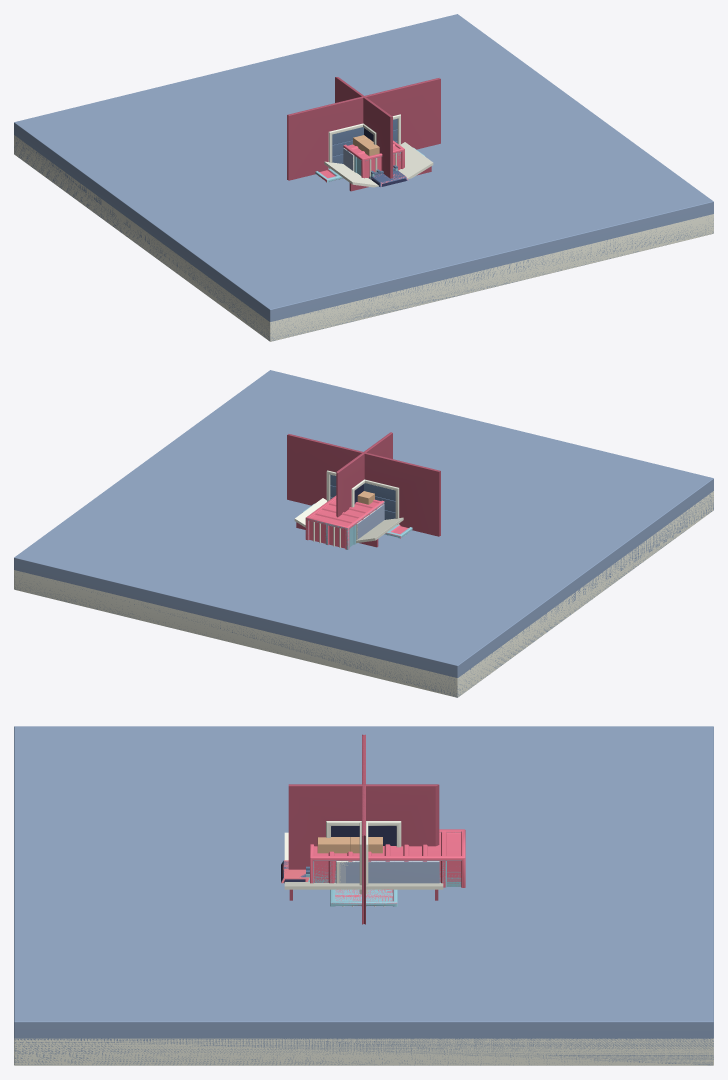
The model's file is Industrial Warehouse District.fbx.
The picture shows the model from 3 angles, top to bottom: view 1: azimuth 30°, elevation 25°; view 2: azimuth 150°, elevation 25°; view 3: azimuth 270°, elevation 25°; orthographic projection. The views are drawn at different scales.
Parts seen in each view (by area): view 1: Ground_2, Ground_1, WallDoor_1, Wall_B_1, Truck_B_1, Door_1, Roof_C_1, Roof_D_1; view 2: Ground_2, Ground_1, Wall_A_1, Truck_B_1, Wall_B_1, Door_1, WallDoor_1; view 3: Ground_2, Ground_1, Wall_B_1, Truck_B_1, Truck_A_2, Truck_C_1, Container_A_1, WallDoor_1, Wall_A_1, Roof_A_1, Roof_C_1, Truck_B_2.
Part boxes in pixels (x1,y1,x2,y2): Ground_2: (14,14,713,340); Ground_1: (14,135,713,341); WallDoor_1: (288,78,440,180); Wall_B_1: (335,77,392,178); Truck_B_1: (343,140,407,187); Door_1: (332,118,397,163); Roof_C_1: (402,142,432,175); Roof_D_1: (324,161,377,191); Ground_2: (14,370,713,697); Ground_1: (14,491,713,697); Wall_A_1: (287,434,439,536); Truck_B_1: (305,495,384,549); Wall_B_1: (336,432,392,517); Door_1: (330,474,395,519); WallDoor_1: (288,434,440,535); Ground_2: (14,726,713,1065); Ground_1: (14,1038,713,1065); Wall_B_1: (288,784,439,869); Truck_B_1: (284,829,465,887); Truck_A_2: (309,861,439,883); Truck_C_1: (281,837,382,883); Container_A_1: (330,889,397,906); WallDoor_1: (359,734,368,924); Wall_A_1: (360,734,368,924); Roof_A_1: (284,882,442,900); Roof_C_1: (285,883,443,900); Truck_B_2: (283,832,461,887).
Bounding box in the file's own units: 1000 × 213 × 1000.
1 material, 1 textured.
